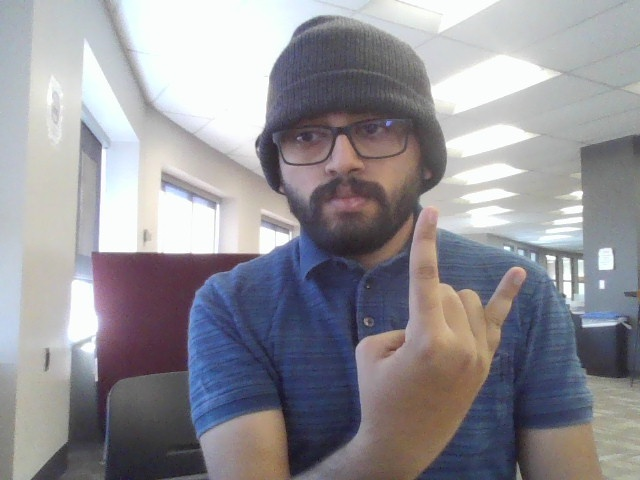help: (343, 203, 542, 466)
